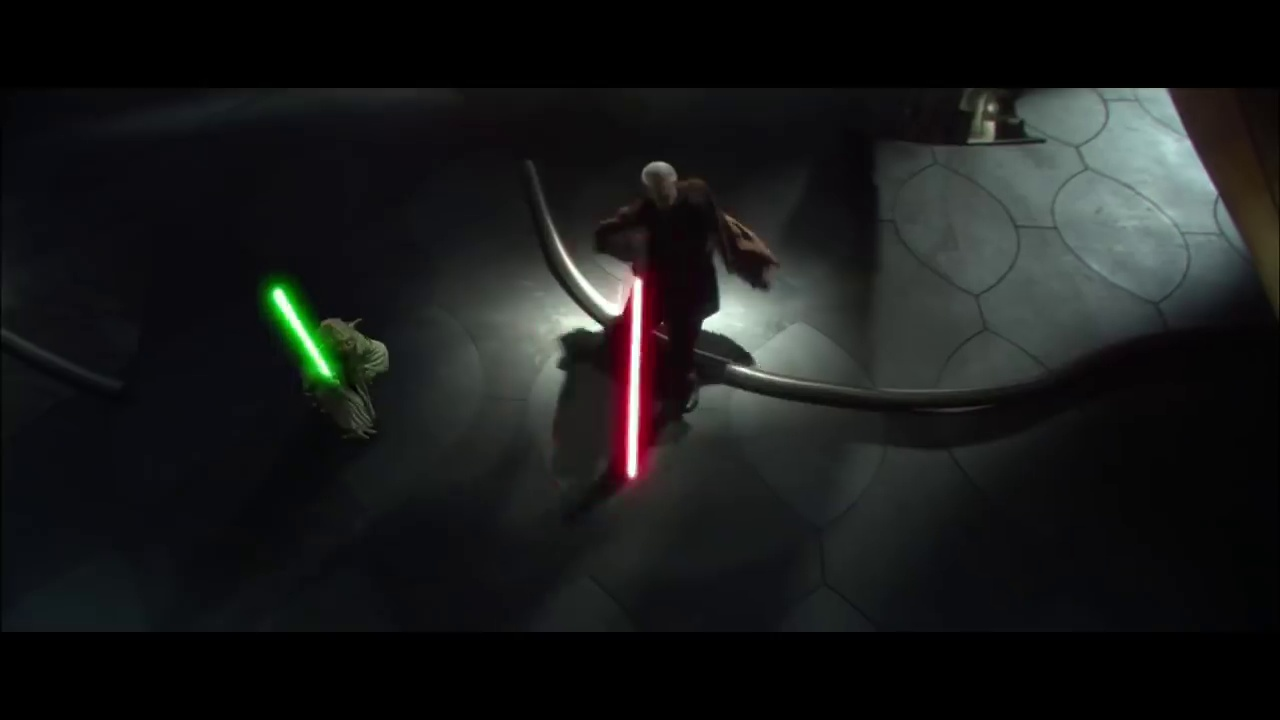lightsaber: (263, 280, 344, 390), (620, 266, 656, 485)
